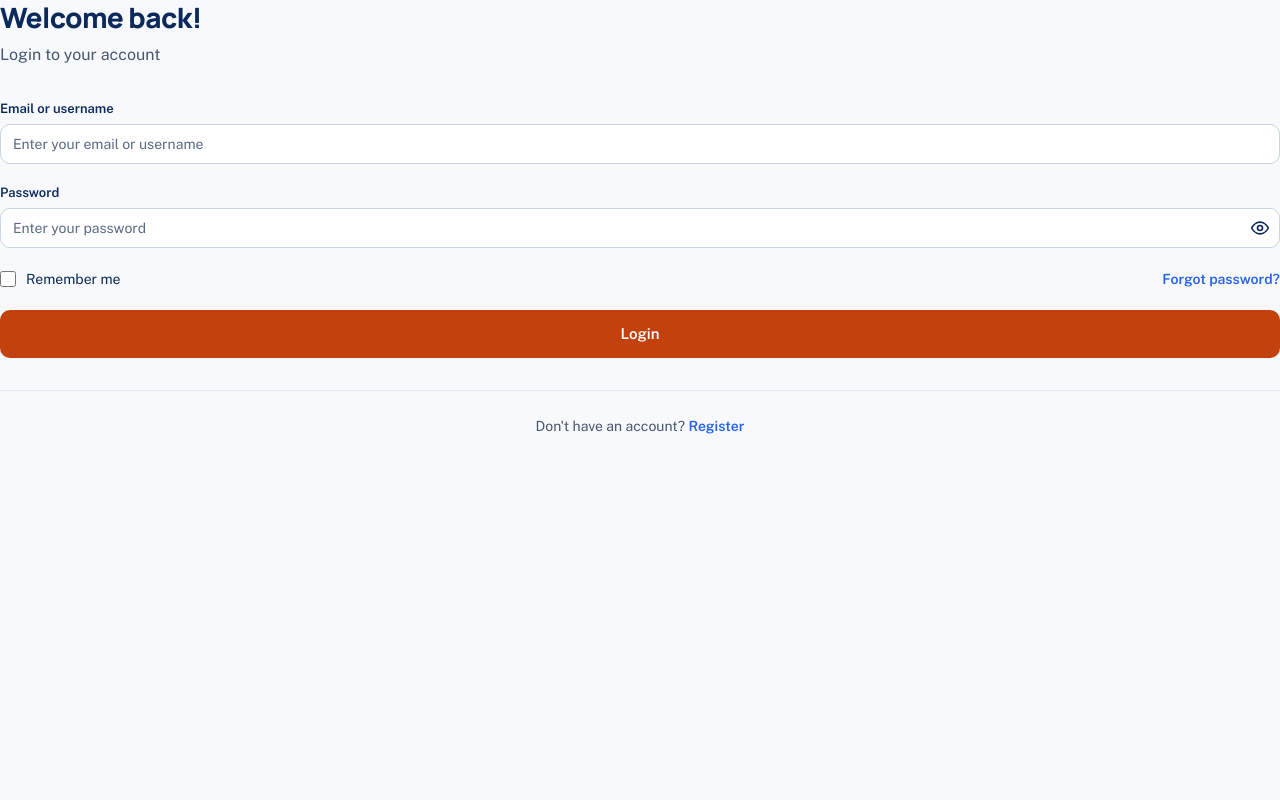
session isolation across sign-out and sign-in › same-role switch: student → sign out → another account starts from an empty cache
Type "amina.student@fursadhub.test" into the field labelled "Email or username" at [640, 144], box [0,124,1279,164]
Type "Password123" into the password field labelled "Password" at [640, 228], box [0,208,1279,248]
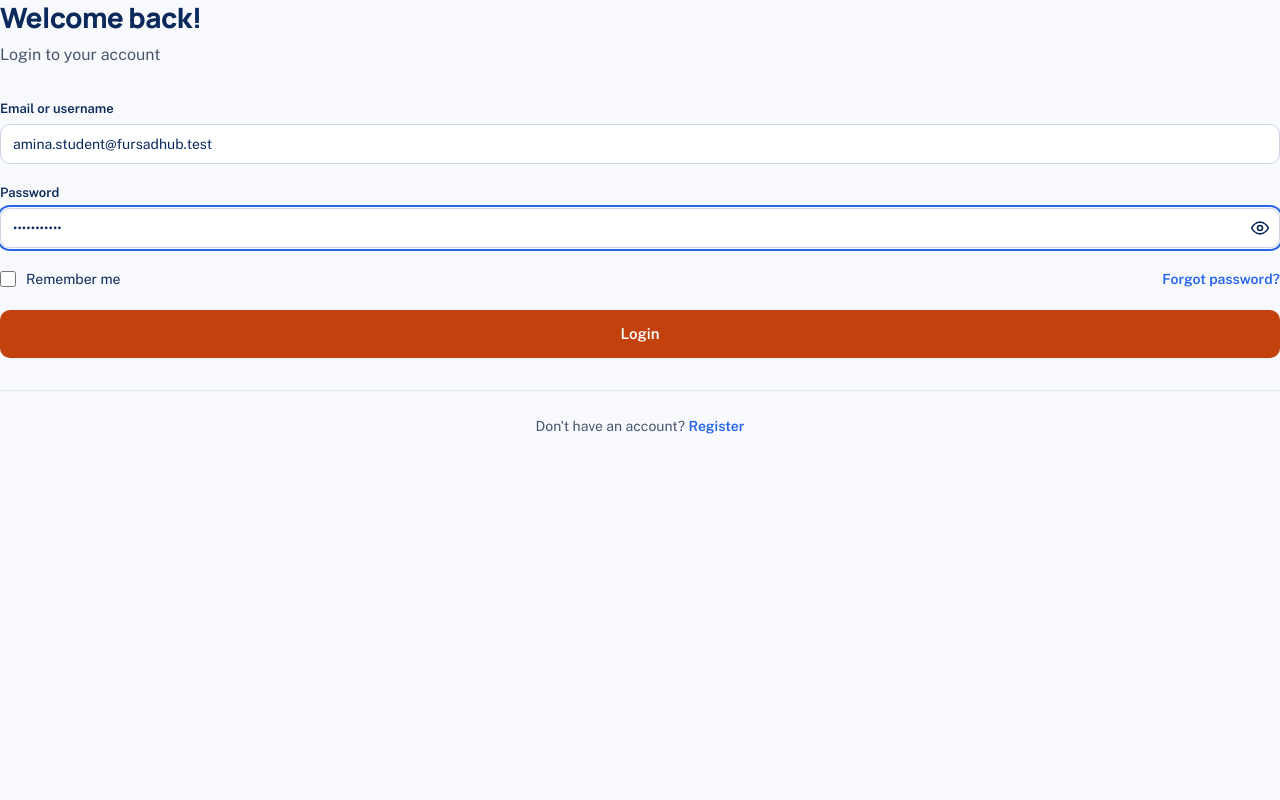
Click the button "Login" at [640, 334], box [0,310,1279,358]
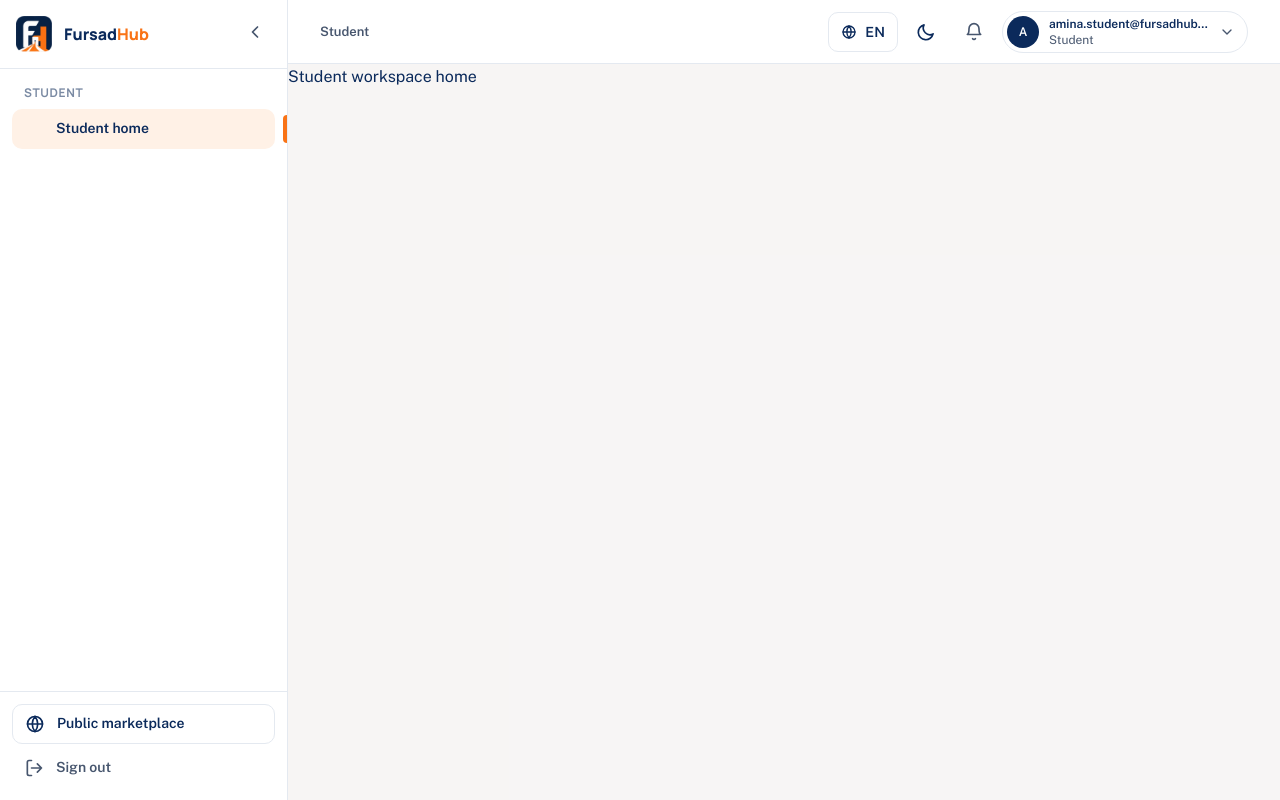
Check: the text "amina.student@fursadhub.test" is shown, box [1049,16,1209,32]
Click the button with aria-label "account" at [1125, 32], box [1002,10,1248,52]
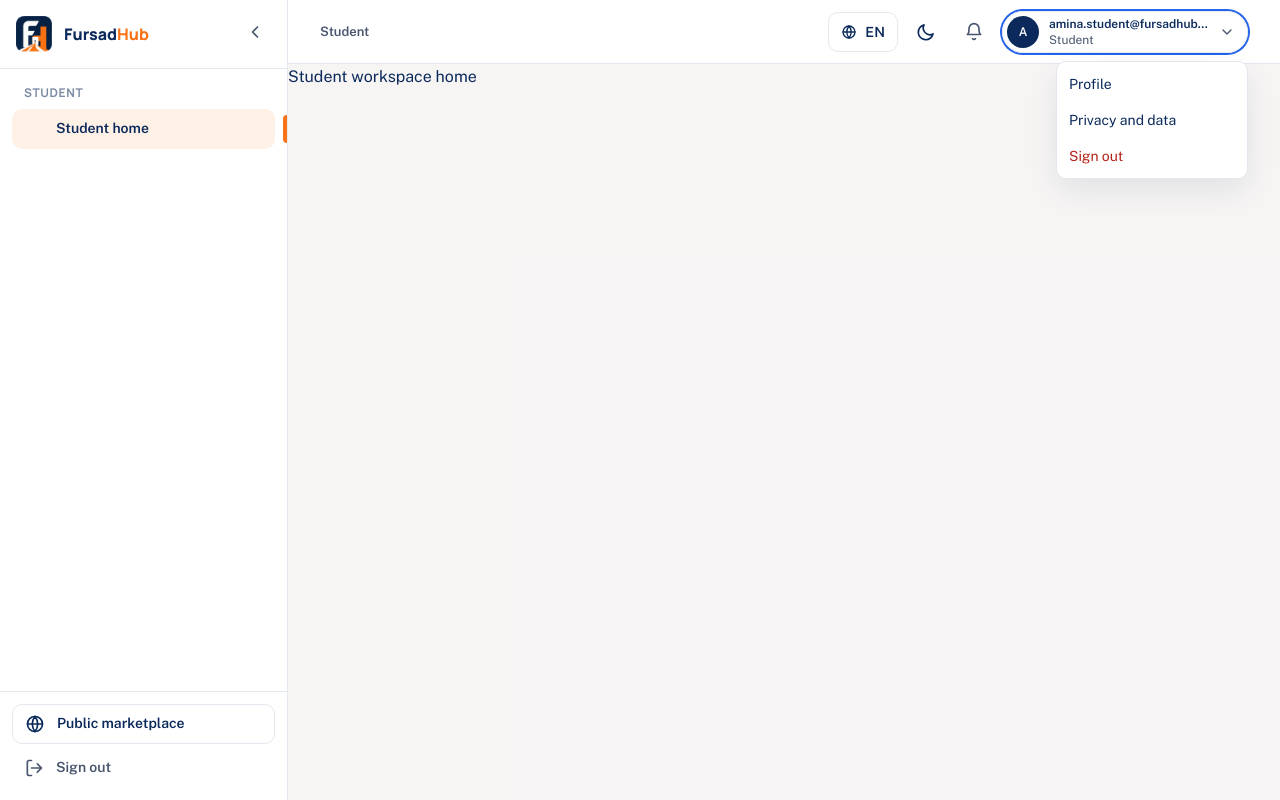
Click the menu item "Sign out" at [1152, 156], box [1057,138,1247,174]
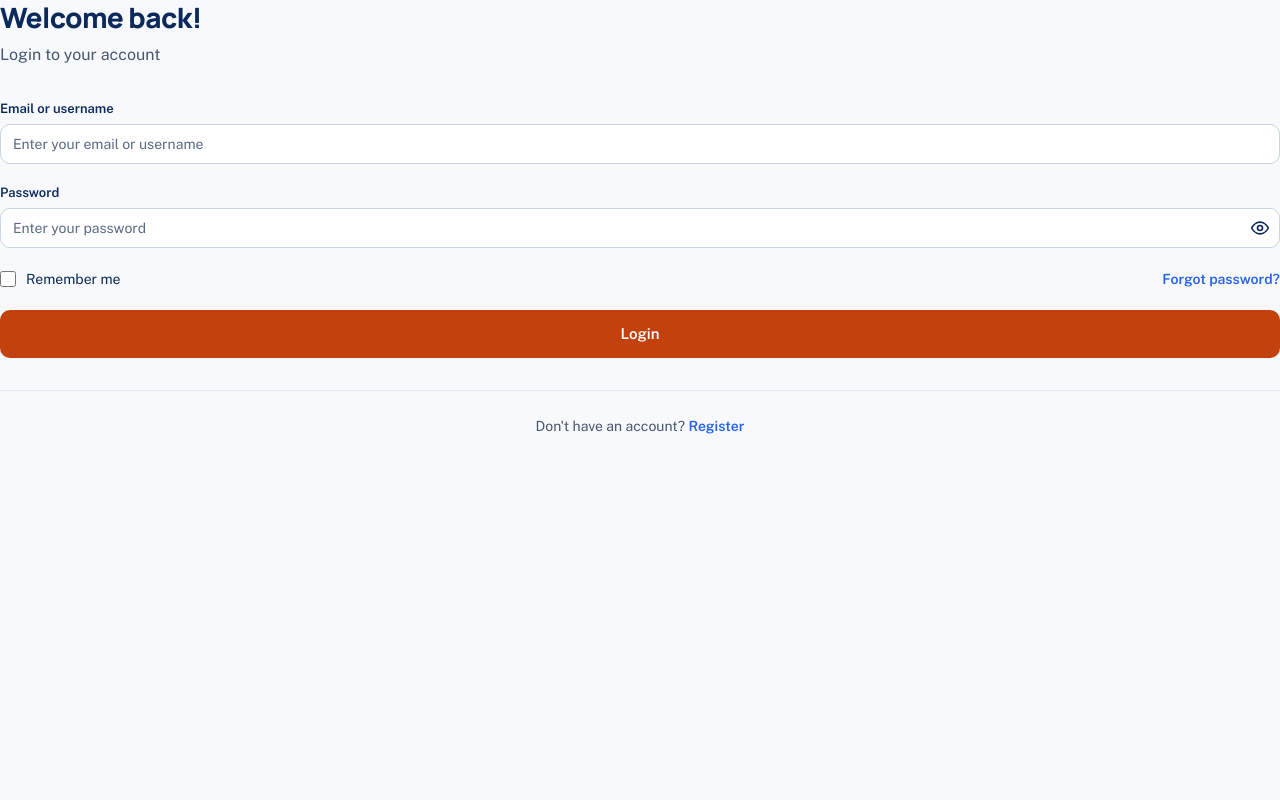
Check: the button "Login" is shown, box [0,310,1279,358]
Type "yusuf.student@fursadhub.test" into the field labelled "Email or username" at [640, 144], box [0,124,1279,164]
Type "Password123" into the password field labelled "Password" at [640, 228], box [0,208,1279,248]
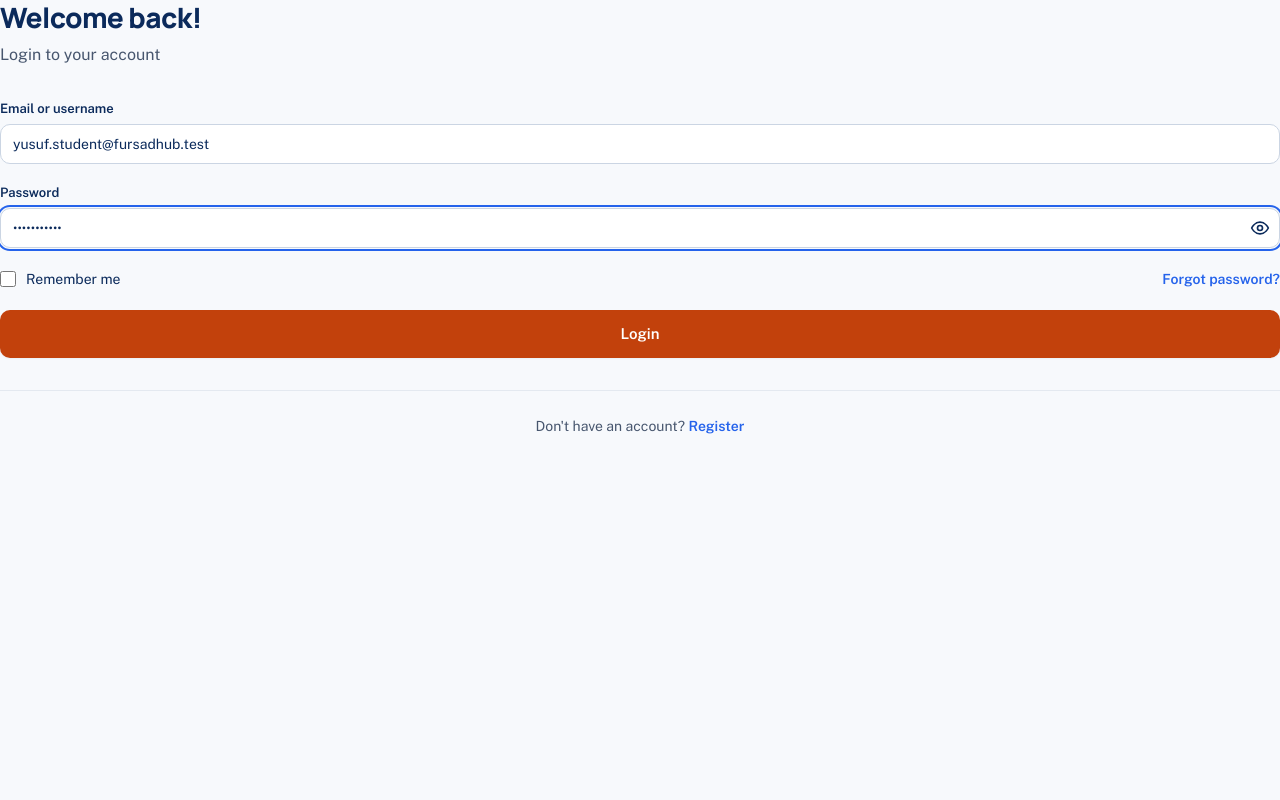
Click the button "Login" at [640, 334], box [0,310,1279,358]
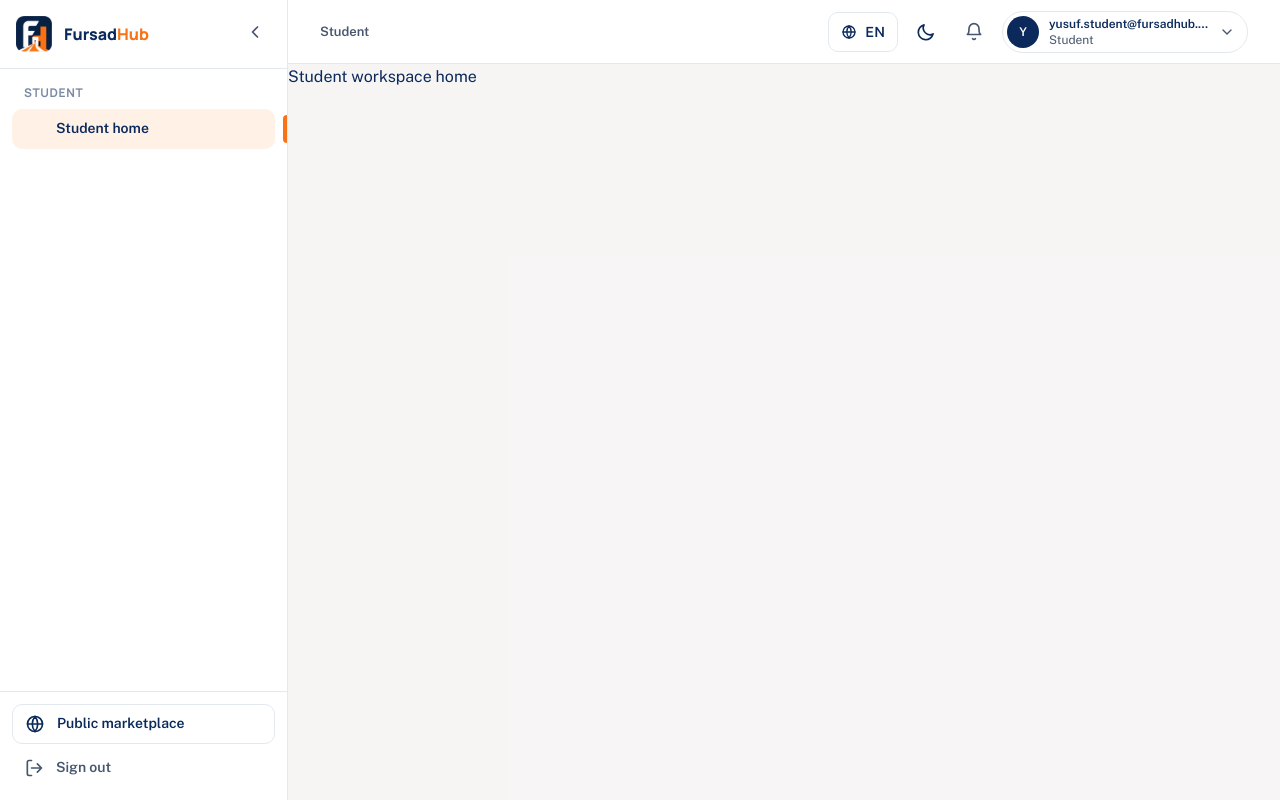
Check: the text "yusuf.student@fursadhub.test" is shown, box [1049,16,1209,32]
